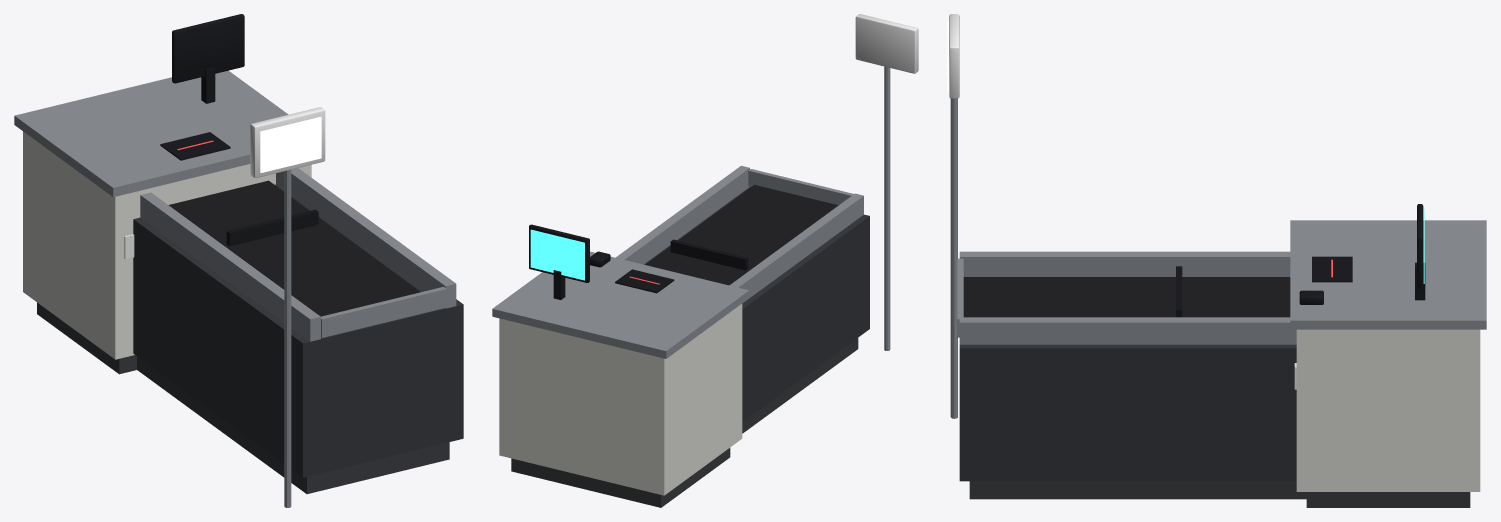
File: sh_checkout.glb
The picture shows the model from 3 angles, left to right: view 1: azimuth 30°, elevation 25°; view 2: azimuth 150°, elevation 25°; view 3: azimuth 270°, elevation 25°; orthographic projection. The views are drawn at different scales.
Parts seen in each view (by area): view 1: bbody, dtop, dbody, belt, divider, bkick, lampface, dstripe; view 2: dbody, dtop, bbody, belt, bkick, divider, dstripe, screen; view 3: bbody, dtop, dbody, belt, bkick, divider, dstripe.
Boxes of the visible parts, x1=… form: bbody: x1=133, y1=184, x2=463, y2=477; dtop: x1=14, y1=70, x2=456, y2=507; dbody: x1=23, y1=131, x2=311, y2=359; belt: x1=168, y1=180, x2=420, y2=316; divider: x1=160, y1=14, x2=318, y2=246; bkick: x1=37, y1=302, x2=449, y2=494; lampface: x1=260, y1=117, x2=321, y2=172; dstripe: x1=124, y1=107, x2=325, y2=259; dbody: x1=499, y1=304, x2=742, y2=495; dtop: x1=492, y1=66, x2=890, y2=358; bbody: x1=644, y1=187, x2=869, y2=421; belt: x1=645, y1=184, x2=838, y2=285; bkick: x1=511, y1=338, x2=858, y2=507; divider: x1=529, y1=224, x2=748, y2=299; dstripe: x1=855, y1=14, x2=918, y2=73; screen: x1=530, y1=229, x2=584, y2=280; bbody: x1=959, y1=344, x2=1296, y2=481; dtop: x1=950, y1=98, x2=1486, y2=418; dbody: x1=1296, y1=329, x2=1480, y2=491; belt: x1=963, y1=277, x2=1290, y2=317; bkick: x1=969, y1=481, x2=1470, y2=507; divider: x1=1176, y1=204, x2=1425, y2=317; dstripe: x1=949, y1=14, x2=1296, y2=389.
Bounding box in the file's own units: 1.33 × 2.09 × 2.64.
